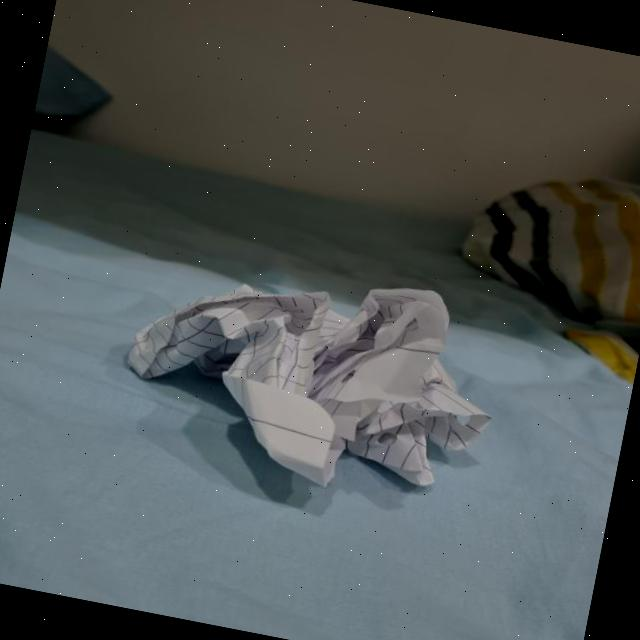trash: (100, 224, 495, 503)
